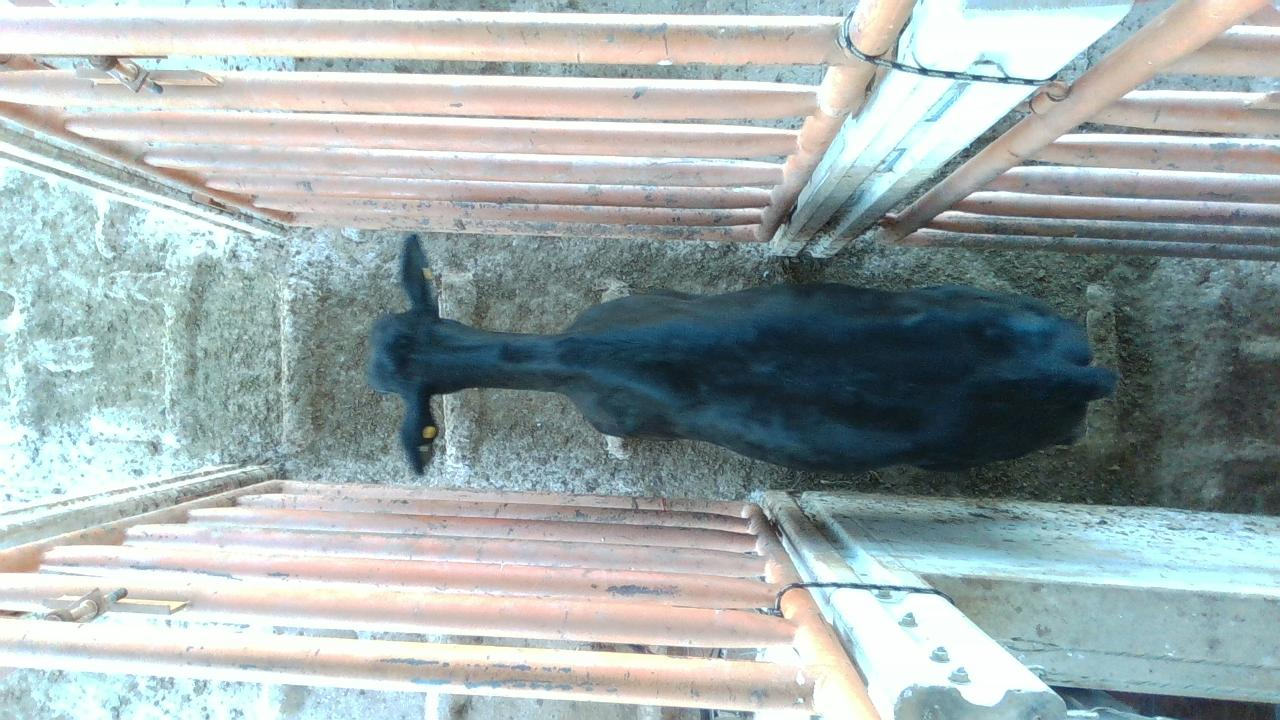cattle: (365, 232, 1121, 476)
